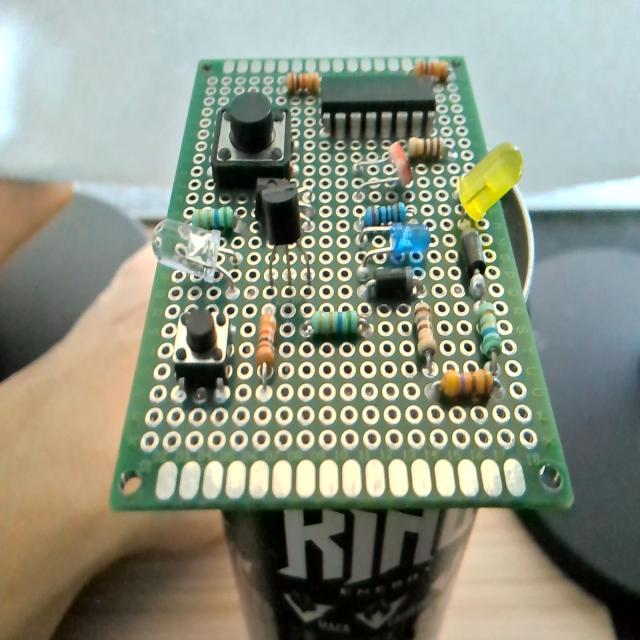IC: (320, 72, 436, 133)
cds: (355, 146, 409, 188)
diode: (355, 267, 419, 301), (458, 228, 488, 300)
led: (149, 220, 243, 290), (454, 141, 524, 223), (358, 222, 429, 269)
resistor: (441, 370, 494, 403), (414, 302, 438, 365), (476, 300, 501, 359), (256, 310, 277, 379), (311, 309, 360, 336), (361, 202, 406, 226), (193, 206, 234, 230), (409, 136, 444, 162), (286, 71, 320, 96), (414, 60, 448, 81)
switch: (211, 97, 292, 187), (172, 303, 234, 396)
transistor: (254, 179, 308, 290)
